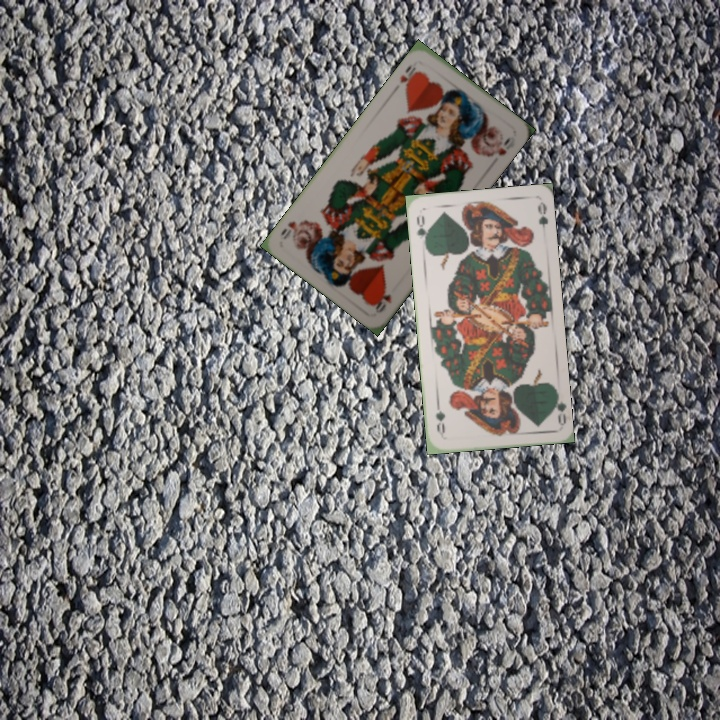GO: (548, 387, 568, 427), (412, 212, 431, 249)
HO: (396, 61, 422, 93), (370, 290, 394, 315)
